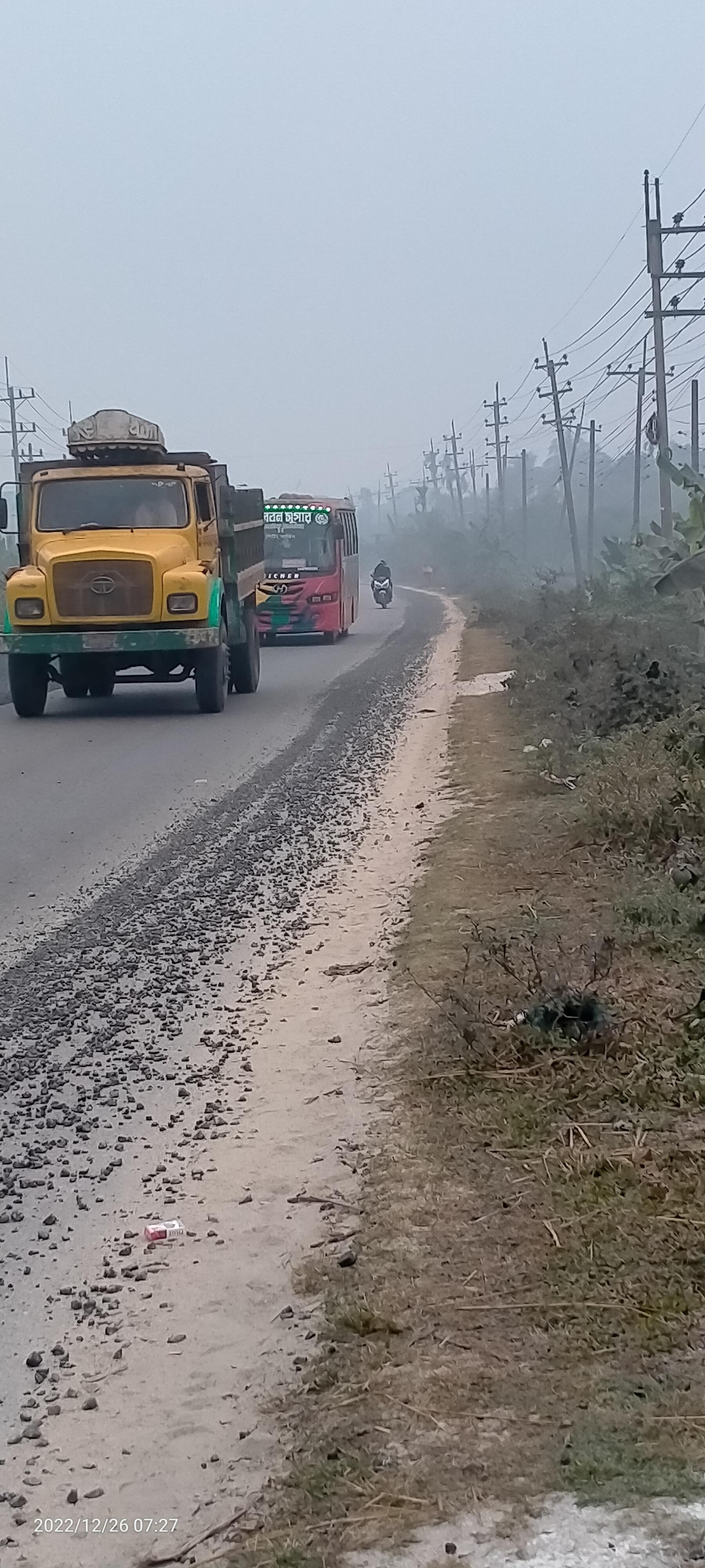Bike: (364, 547, 411, 621)
Bus: (261, 472, 367, 660)
Truck: (8, 403, 272, 723)
